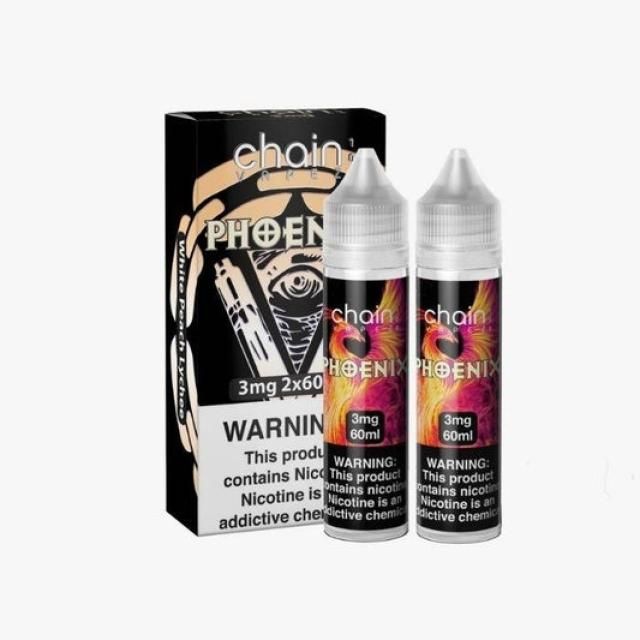Hazard: (162, 107, 388, 537), (412, 146, 503, 544)
